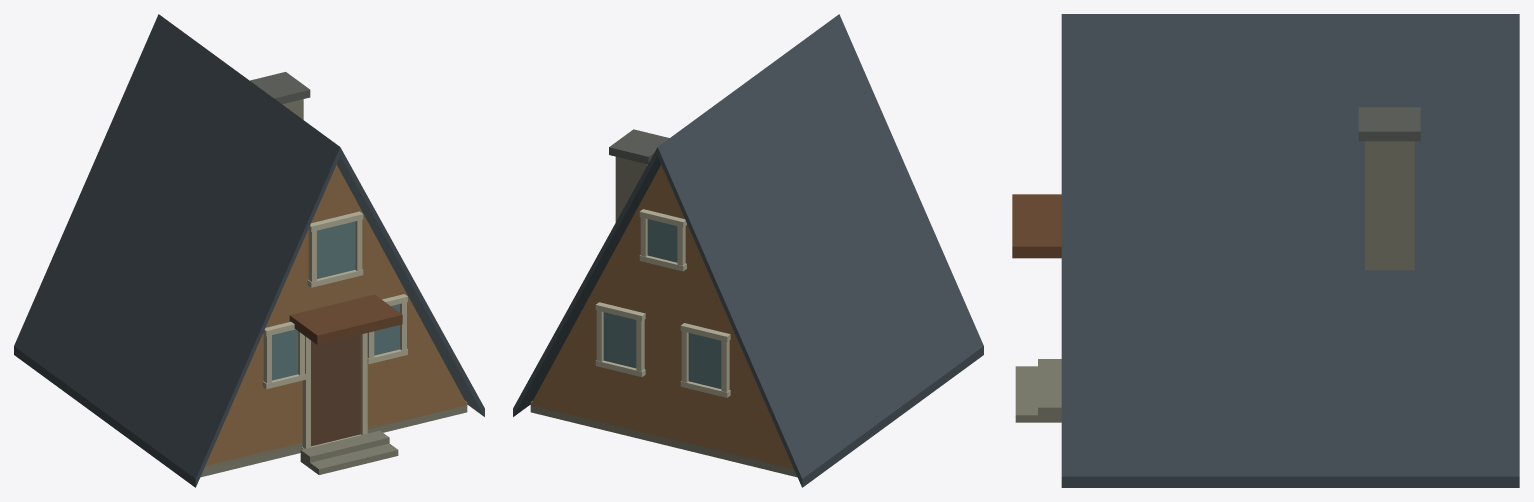
Rendered from Building_Settlement_AFrameCabin_001_LOD1.glb.
The picture shows the model from 3 angles, left to right: view 1: azimuth 30°, elevation 25°; view 2: azimuth 150°, elevation 25°; view 3: azimuth 270°, elevation 25°; orthographic projection. The views are drawn at different scales.
Parts seen in each view (by area): view 1: Building_Settlement_AFrameCabin_001_LOD1; view 2: Building_Settlement_AFrameCabin_001_LOD1; view 3: Building_Settlement_AFrameCabin_001_LOD1.
Boxes of the visible parts, left/top/right/bottom form: Building_Settlement_AFrameCabin_001_LOD1: left=14, top=14, right=484, bottom=487; Building_Settlement_AFrameCabin_001_LOD1: left=513, top=14, right=983, bottom=487; Building_Settlement_AFrameCabin_001_LOD1: left=1012, top=14, right=1519, bottom=487.
Bounding box in the file's own units: 5.1 × 5.15 × 6.15.
